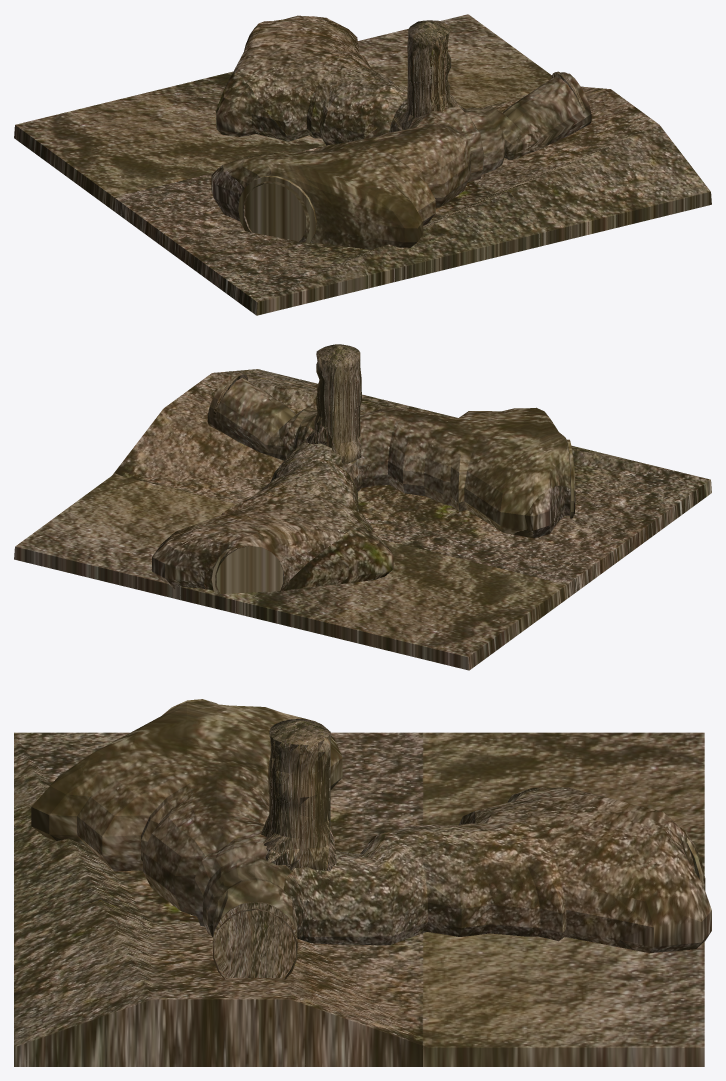
The model's file is cave.FBX.
3 views of the same model, one above another, from view 1: azimuth 30°, elevation 25°; view 2: azimuth 150°, elevation 25°; view 3: azimuth 270°, elevation 25° (orthographic). The views are drawn at different scales.
Visible parts, largest first — view 1: cave; view 2: cave; view 3: cave.
Boxes of the visible parts, box(x1,y1,x2,y2) form: cave: box(14, 14, 711, 315); cave: box(14, 344, 711, 670); cave: box(14, 699, 711, 1066).
Bounding box in the file's own units: 552 × 515 × 193.
1 material, 1 textured.
